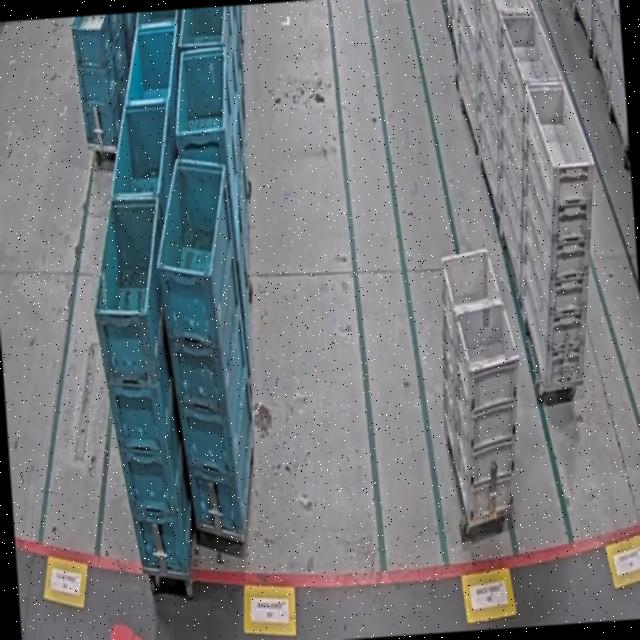6G: (503, 76, 607, 392)
8G: (435, 245, 529, 530)
B4: (84, 190, 198, 572), (150, 154, 260, 540)
B8: (70, 13, 133, 151)
